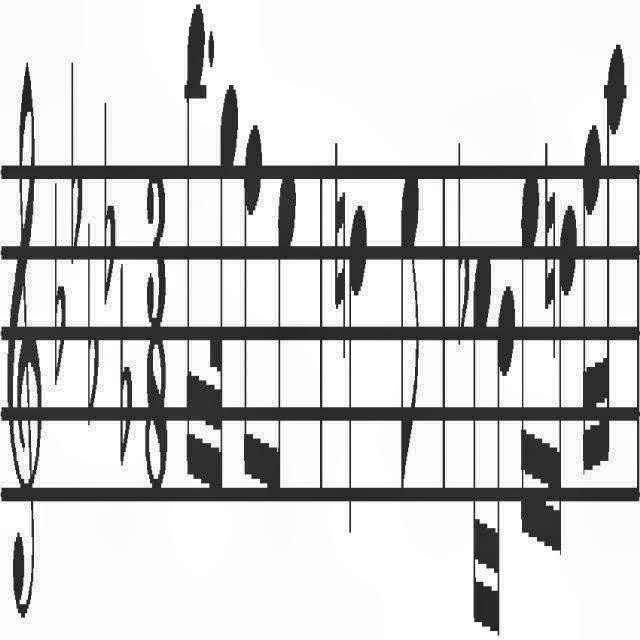Bass-clef: (5, 55, 42, 630)
Bemol: (69, 54, 83, 274), (457, 135, 471, 353), (85, 222, 98, 436), (54, 173, 66, 401), (104, 92, 116, 316), (120, 258, 132, 478)
Eighth-note: (266, 160, 298, 496), (244, 119, 264, 498), (400, 164, 420, 504)
Quarter-note: (348, 199, 369, 541)
Sixteenth-note: (602, 42, 628, 474), (550, 196, 578, 584), (186, 0, 206, 498), (519, 164, 541, 548), (492, 282, 516, 628), (582, 116, 602, 487), (473, 246, 491, 640)
